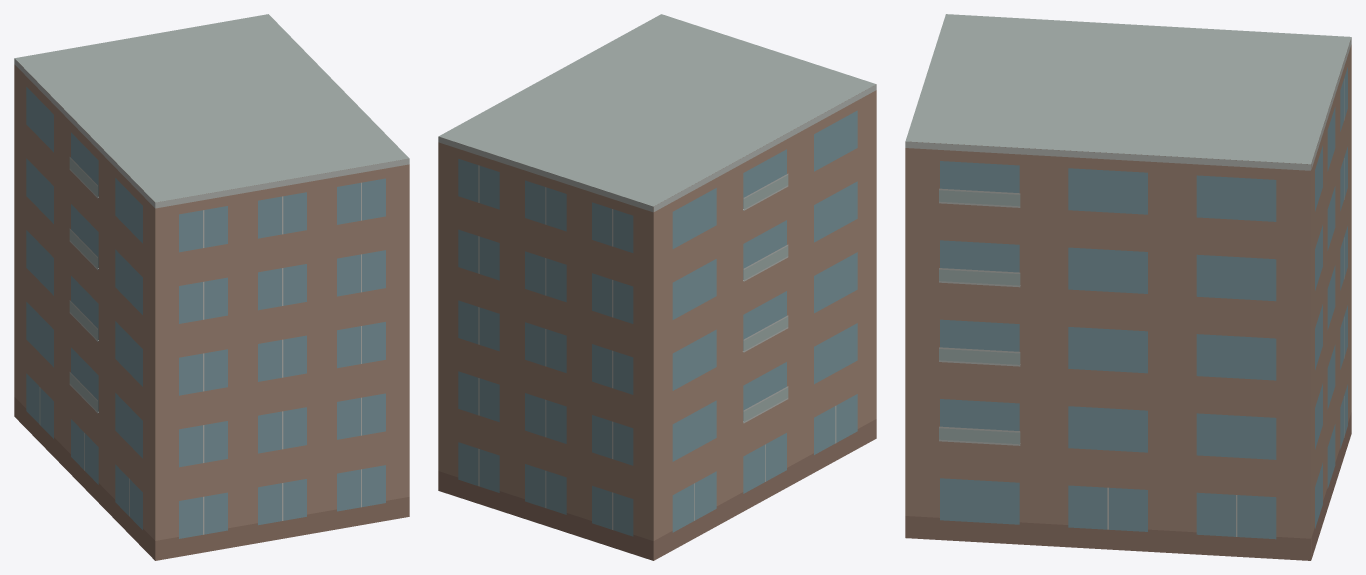
Rendered from survey-upis-32977528.glb.
The picture shows the model from 3 angles, left to right: view 1: azimuth 30°, elevation 25°; view 2: azimuth 150°, elevation 25°; view 3: azimuth 270°, elevation 25°; orthographic projection. The views are drawn at different scales.
Parts seen in each view (by area): view 1: survey-upis-32977528.tmp; view 2: survey-upis-32977528.tmp; view 3: survey-upis-32977528.tmp.
Part boxes in pixels (box(x1,y1,x2,y2)): survey-upis-32977528.tmp: box(14, 14, 409, 560); survey-upis-32977528.tmp: box(438, 14, 876, 560); survey-upis-32977528.tmp: box(905, 14, 1351, 560).
Size of the model in its own units: 12.04 by 14.8 by 15.1.
